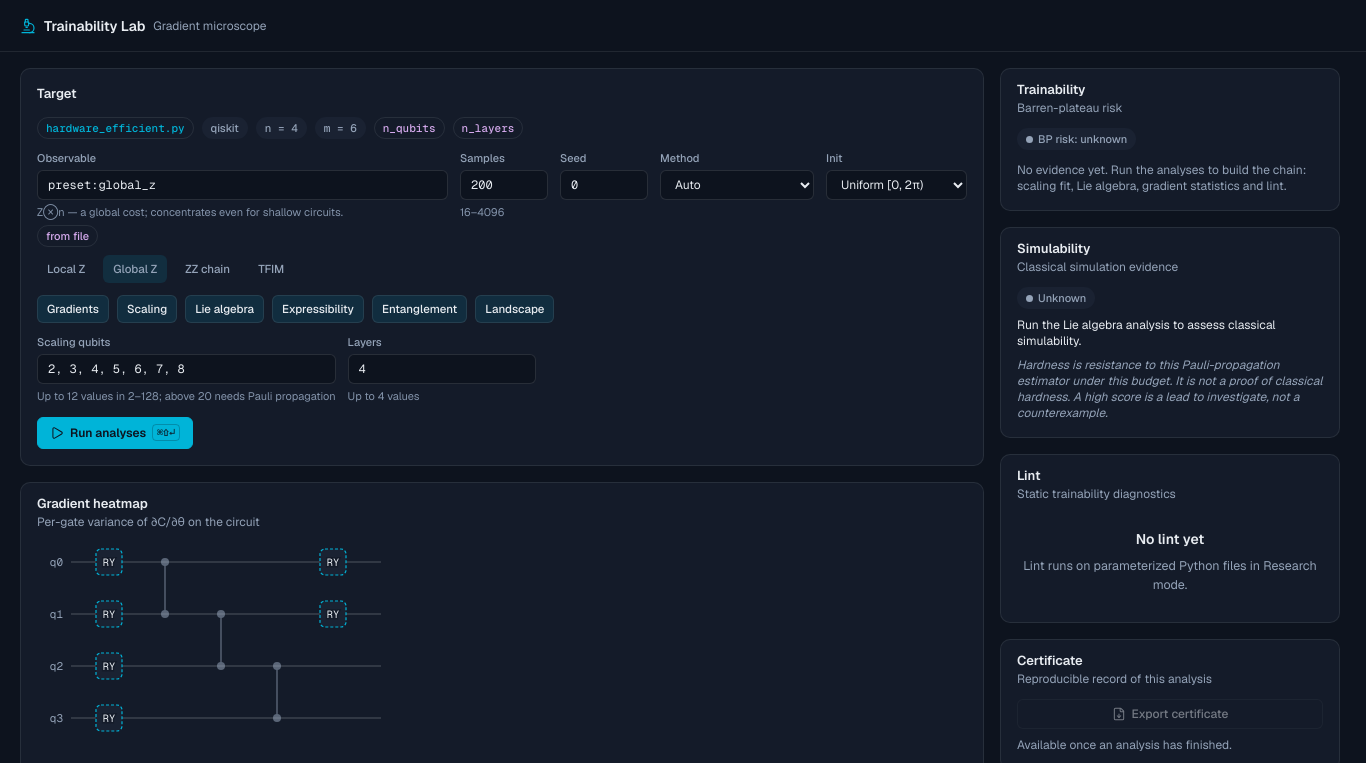
Test case: review fixes: target bar (UI-2, UI-3) › picking a preset overrides the file
Click the button "TFIM". click: (271,269)
box: [248, 255, 294, 283]
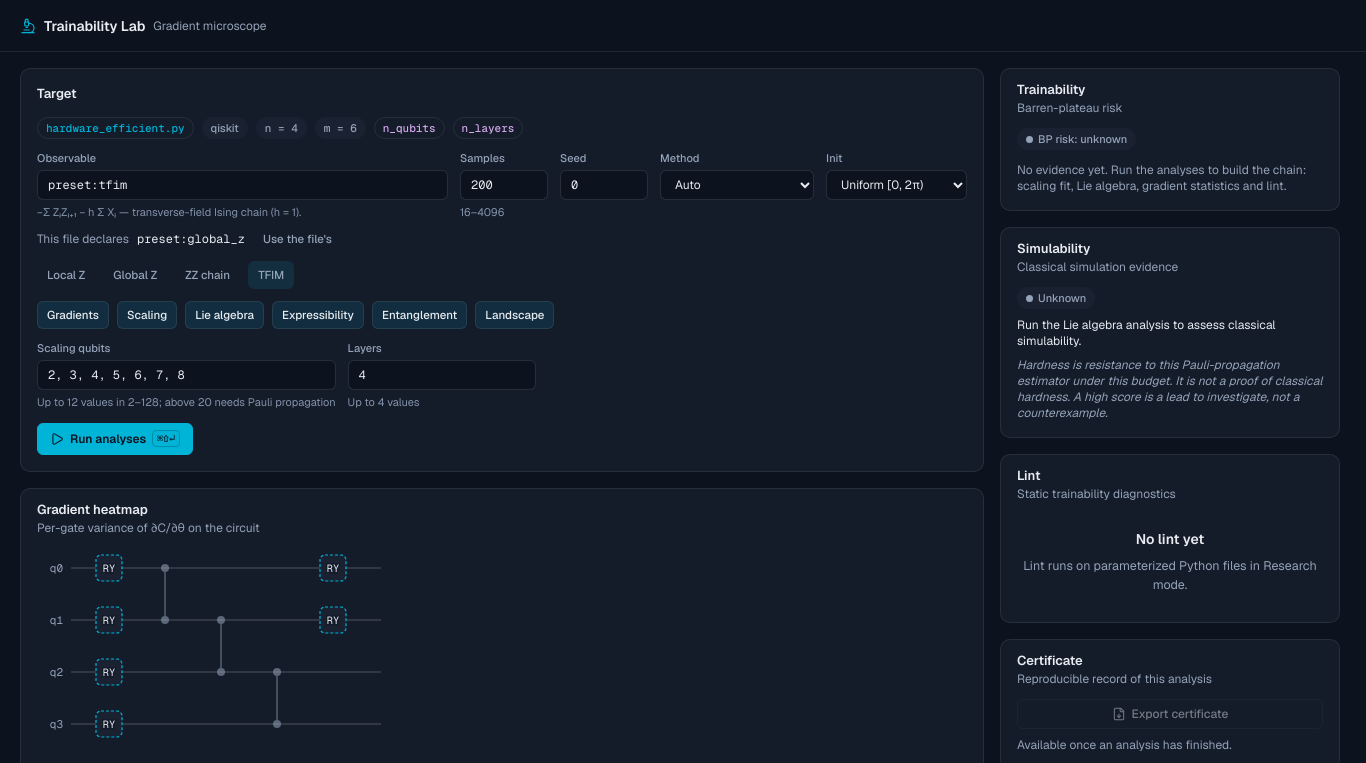
Now the text "from file" is gone
